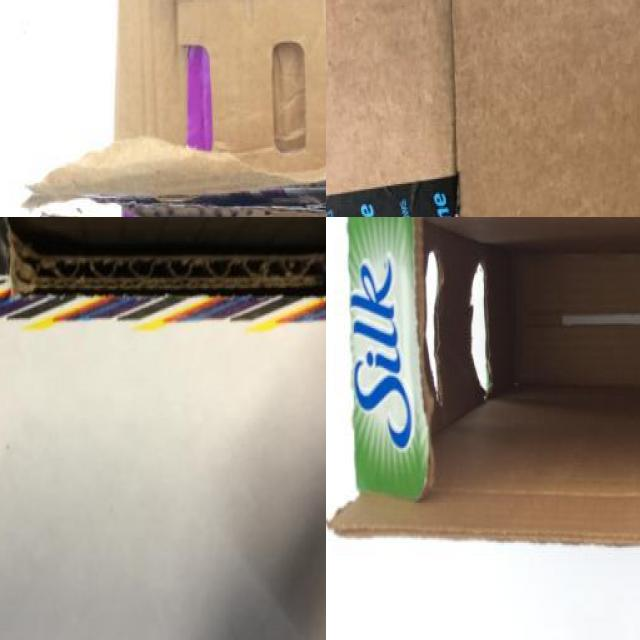class_name: (0, 217, 326, 640), (326, 217, 640, 556), (0, 0, 326, 217), (326, 0, 640, 217)
